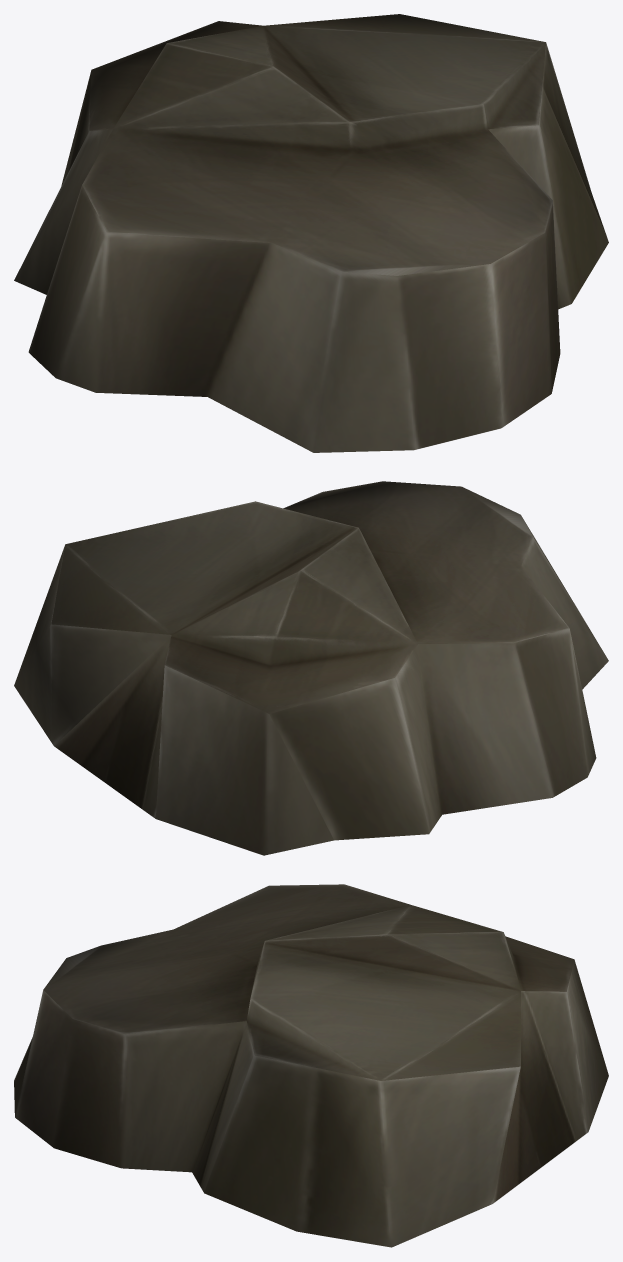
The model's file is A_CV_GEN_Floor_03.fbx.
3 renders of one model, top to bottom at view 1: azimuth 30°, elevation 25°; view 2: azimuth 150°, elevation 25°; view 3: azimuth 270°, elevation 25°, orthographic. The views are drawn at different scales.
Visible parts, largest first — view 1: A_CV_GEN_Floor_03; view 2: A_CV_GEN_Floor_03; view 3: A_CV_GEN_Floor_03.
Boxes of the visible parts, x1,y1,x2,y2 form: A_CV_GEN_Floor_03: (14,14,608,452); A_CV_GEN_Floor_03: (14,481,608,855); A_CV_GEN_Floor_03: (14,884,608,1247).
Size of the model in its own units: 7435 by 2479 by 7509.
1 material, 1 textured.
